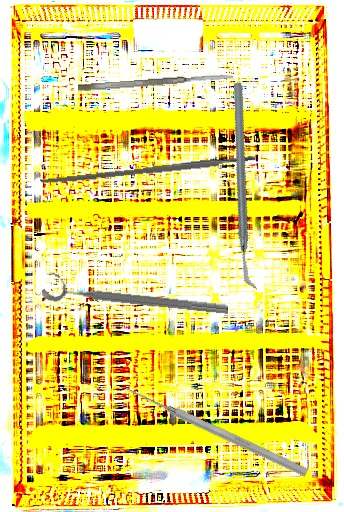Chopper: (166, 80, 325, 293)
Fixation Ring: (40, 270, 231, 320)
Pusher: (123, 382, 310, 479)
Scalpel Handle: (40, 154, 256, 187)
Spatula Surgical: (77, 72, 234, 93)
